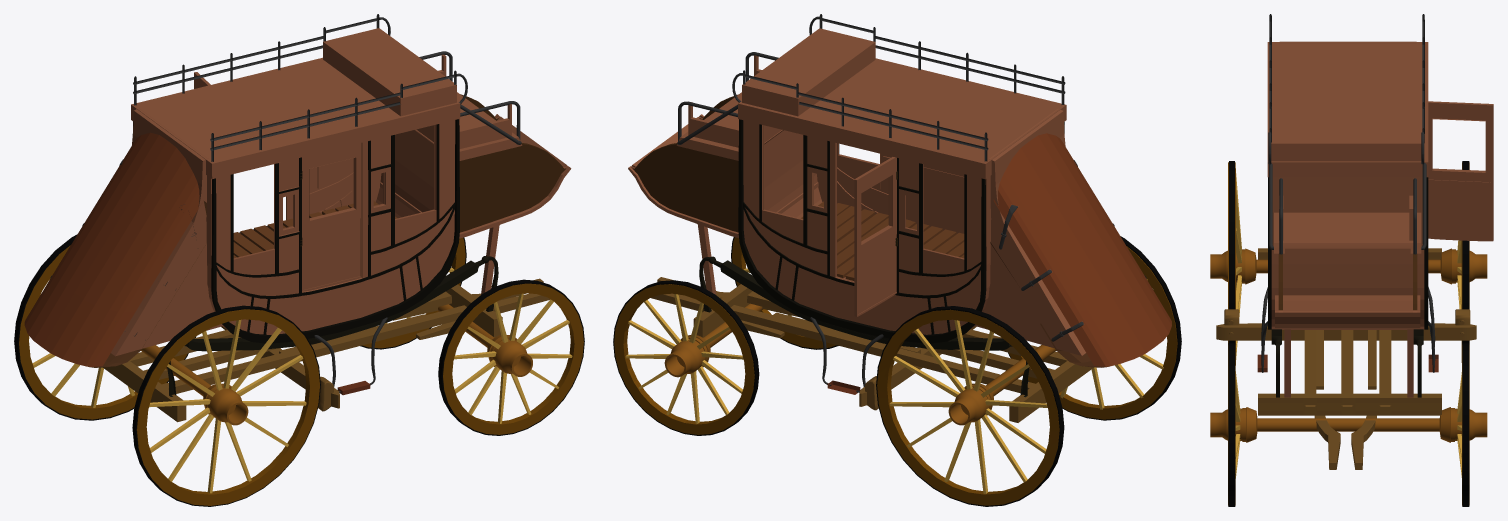
Rendered from Carroza4.fbx.
3 views of the same model, side by side, from view 1: azimuth 30°, elevation 25°; view 2: azimuth 150°, elevation 25°; view 3: azimuth 270°, elevation 25° (orthographic).
Parts seen in each view (by area): view 1: Carroza; view 2: Carroza; view 3: Carroza.
Boxes of the visible parts, x1=… form: Carroza: x1=14, y1=14, x2=584, y2=506; Carroza: x1=613, y1=14, x2=1181, y2=506; Carroza: x1=1210, y1=14, x2=1493, y2=506.
Bounding box in the file's own units: 972 × 658 × 477.
